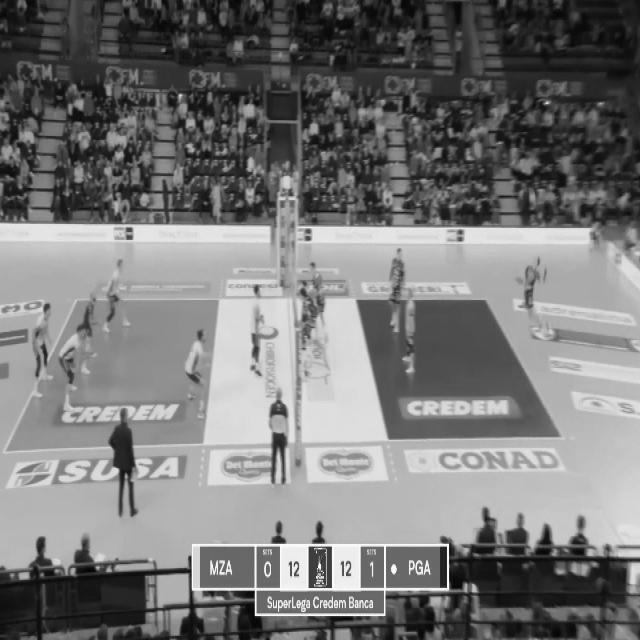volleyball court: (4, 296, 566, 450)
